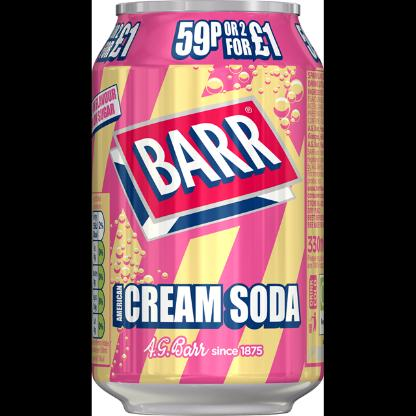Tin_Can: (90, 1, 330, 413)
